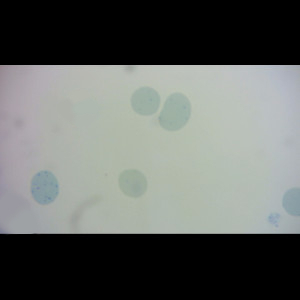erythrocyte: (117, 168, 148, 198)
punctate reticulocyte: (157, 91, 193, 132), (28, 169, 60, 206), (129, 85, 162, 117)
